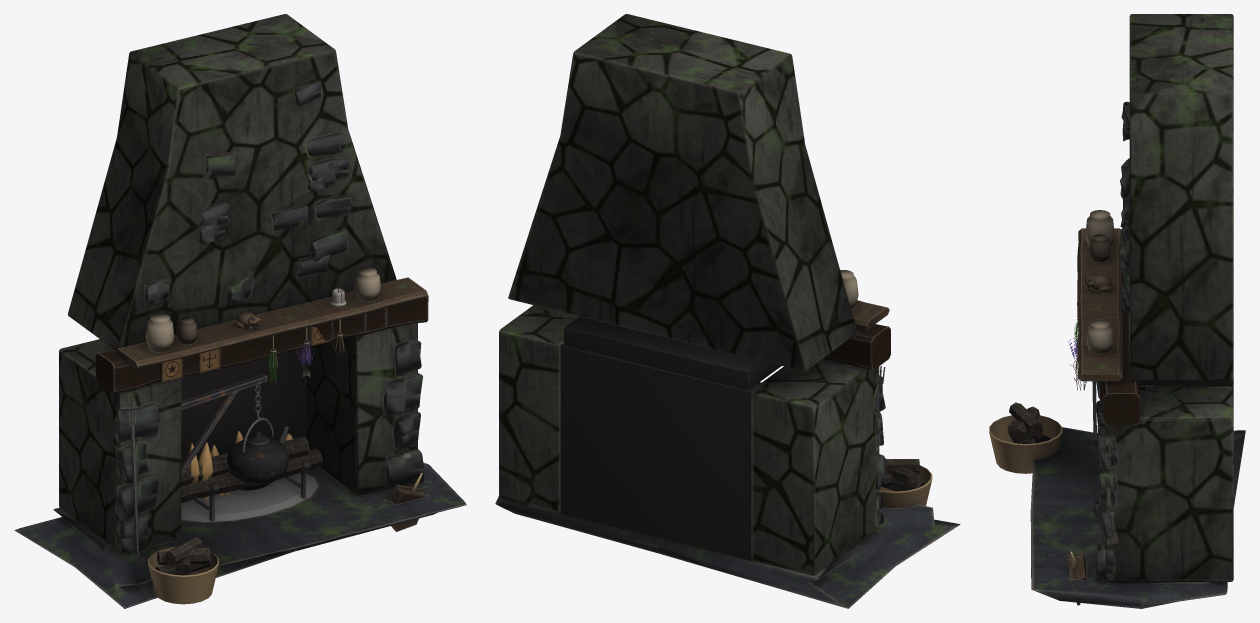
Rendered from HearthKettle.fbx.
3 renders of one model, left to right at view 1: azimuth 30°, elevation 25°; view 2: azimuth 150°, elevation 25°; view 3: azimuth 270°, elevation 25°, orthographic. The views are drawn at different scales.
Visible parts, largest first — view 1: HearthKettle_Main, HearthKettle_Glow2, HearthKettle_Leaves; view 2: HearthKettle_Main; view 3: HearthKettle_Main.
Boxes of the visible parts, x1,y1,x2,y2 form: HearthKettle_Main: (14, 14, 466, 608); HearthKettle_Glow2: (187, 431, 292, 499); HearthKettle_Leaves: (267, 342, 352, 383); HearthKettle_Main: (495, 14, 960, 608); HearthKettle_Main: (989, 14, 1245, 608).
Bounding box in the file's own units: 883 × 1088 × 518.
